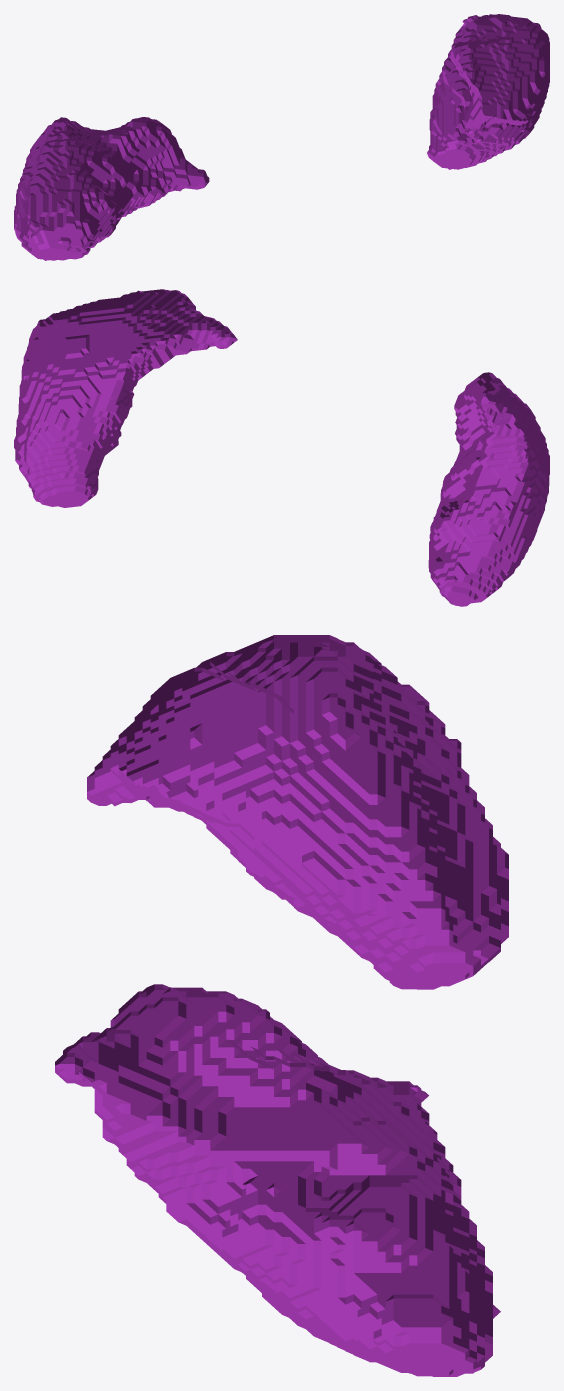
Rendered from region_0147_TLa__lateral_torus_.glb.
3 renders of one model, top to bottom at view 1: azimuth 30°, elevation 25°; view 2: azimuth 150°, elevation 25°; view 3: azimuth 270°, elevation 25°, orthographic. The views are drawn at different scales.
Visible parts, largest first — view 1: world; view 2: world; view 3: world.
Boxes of the visible parts, x1=… form: world: x1=14, y1=14, x2=549, y2=260; world: x1=14, y1=289, x2=549, y2=606; world: x1=55, y1=635, x2=508, y2=1376.
Bounding box in the file's own units: 1.21 × 0.376 × 0.456.
